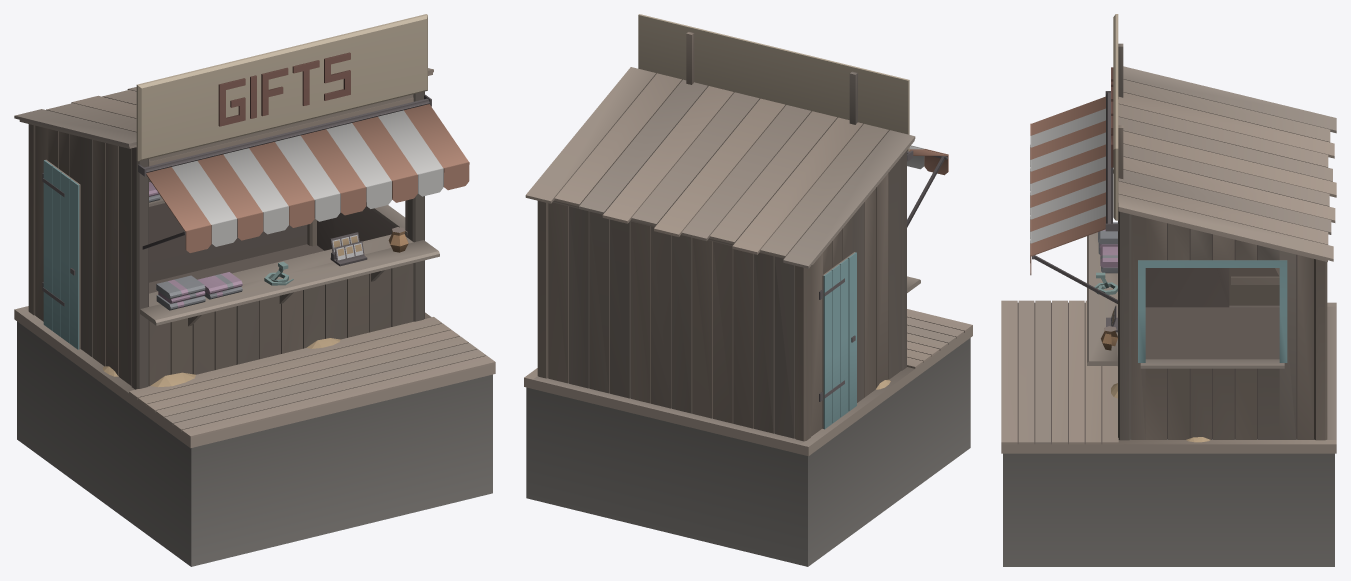
Rendered from gifts.glb.
3 renders of one model, left to right at view 1: azimuth 30°, elevation 25°; view 2: azimuth 150°, elevation 25°; view 3: azimuth 270°, elevation 25°, orthographic. The views are drawn at different scales.
Visible parts, largest first — view 1: gifts; view 2: gifts; view 3: gifts.
Boxes of the visible parts, box(x1,y1,x2,y2) form: gifts: box(14, 14, 495, 566); gifts: box(524, 14, 972, 566); gifts: box(1001, 14, 1336, 566).
Size of the model in its own units: 4 by 5.47 by 4.
